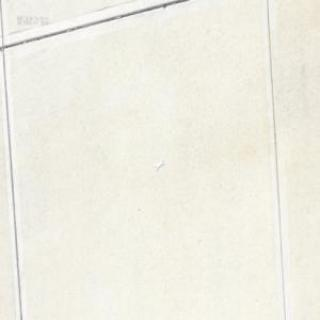Wrenchtrack_idkeyframe: (154, 159, 163, 170)
